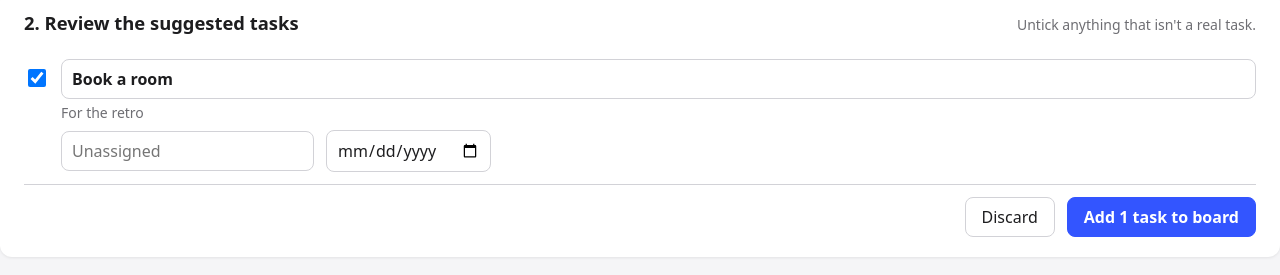
Test: ReviewPanel › can't approve when every task is unticked
This screenshot has width=1280, height=275.
Click the checkbox named "Keep \"Book a room\"".
click(37, 78)  # box [28, 69, 46, 87]
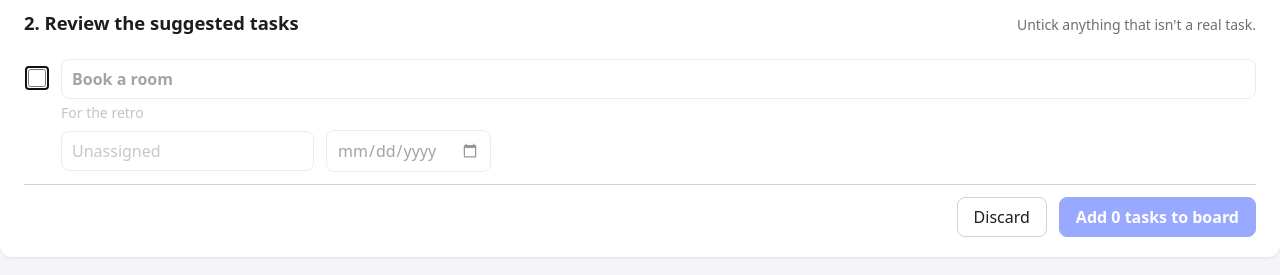
Expected: the button "Add 0 tasks to board" is disabled, [1059, 197, 1256, 237]
